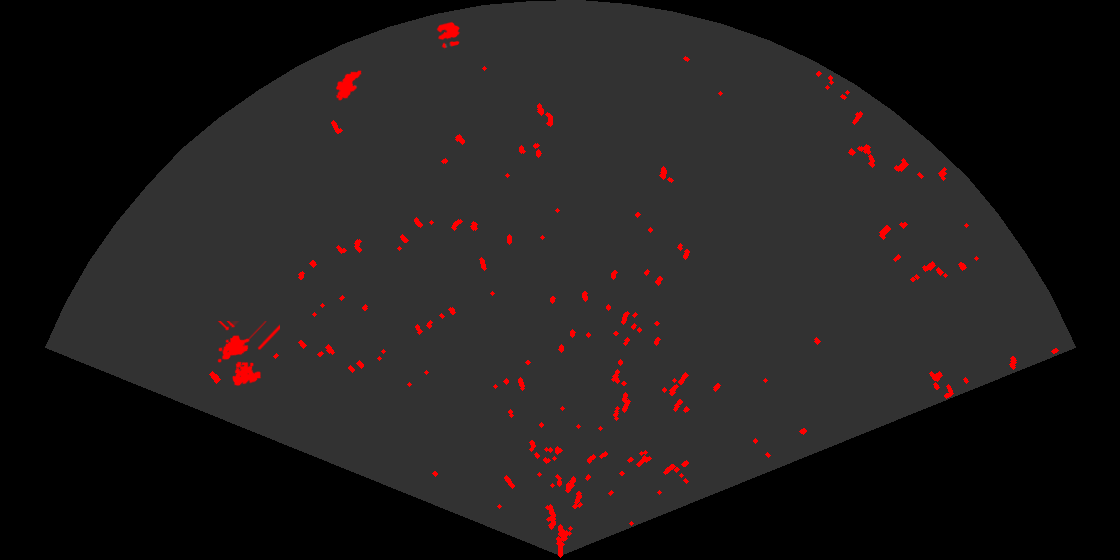AUV: (334, 69, 363, 102)
ball: (435, 20, 462, 50)
cage: (216, 321, 280, 388)
